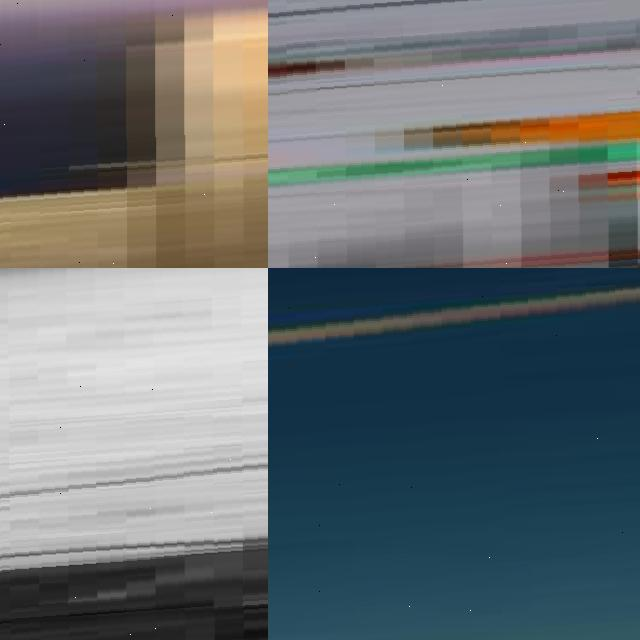street light: (268, 268, 640, 640), (268, 0, 640, 268), (0, 268, 268, 640), (268, 27, 640, 268), (0, 0, 268, 268), (268, 103, 640, 268), (268, 150, 640, 268)
